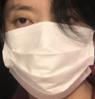with_mask: (2, 1, 95, 99)
